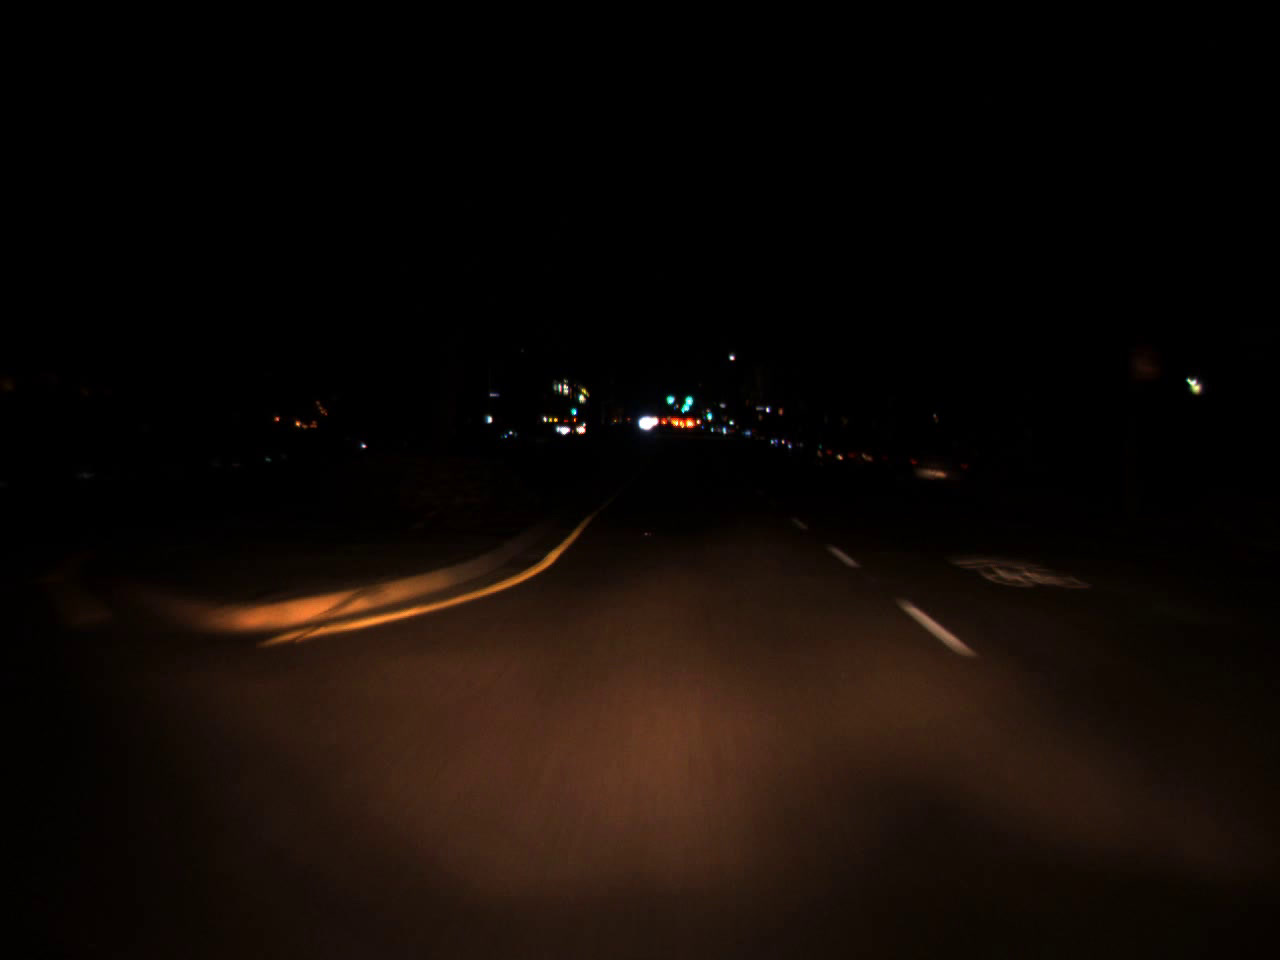go: (680, 385, 694, 409), (665, 386, 675, 407), (705, 405, 712, 419), (570, 404, 577, 416)
